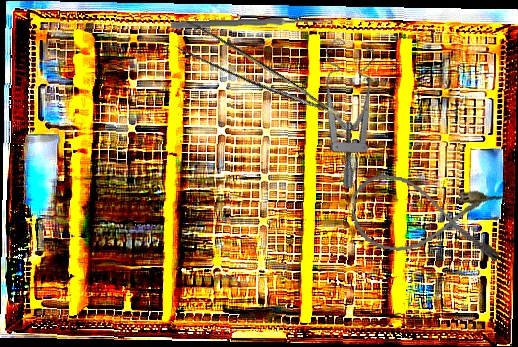Cannula: (347, 170, 508, 267)
Speculum: (277, 30, 409, 191)
Surgical Spoon: (170, 16, 335, 30)
Tissue Forceps: (168, 13, 342, 143)
